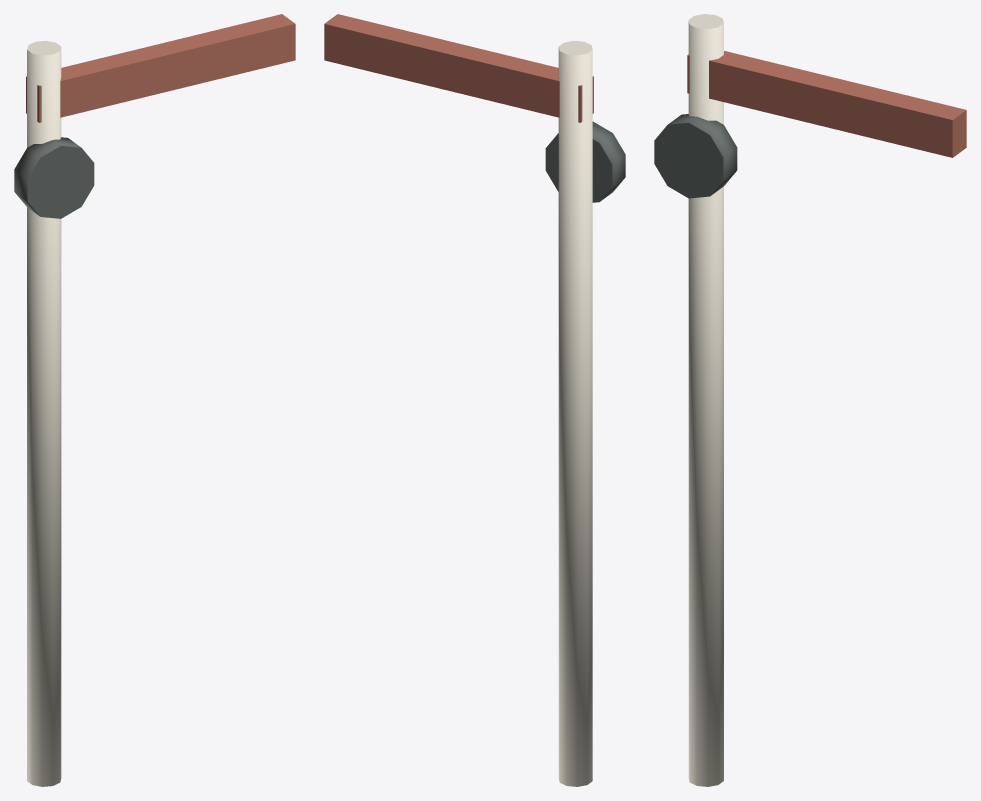
The model's file is rhine-signal_lod1.glb.
3 renders of one model, left to right at view 1: azimuth 30°, elevation 25°; view 2: azimuth 150°, elevation 25°; view 3: azimuth 330°, elevation 25°, orthographic. The views are drawn at different scales.
Visible parts, largest first — view 1: RF_SignalPost, RF_Semaphore, RF_SignalLamp; view 2: RF_SignalPost, RF_Semaphore, RF_SignalLamp; view 3: RF_SignalPost, RF_Semaphore, RF_SignalLamp.
Boxes of the visible parts, box(x1,y1,x2,y2) form: RF_SignalPost: box(27, 41, 61, 786); RF_Semaphore: box(26, 14, 295, 122); RF_SignalLamp: box(14, 137, 94, 218); RF_SignalPost: box(558, 41, 592, 786); RF_Semaphore: box(324, 14, 593, 122); RF_SignalLamp: box(545, 121, 625, 202); RF_SignalPost: box(688, 14, 723, 786); RF_Semaphore: box(687, 51, 966, 157); RF_SignalLamp: box(654, 114, 737, 198).
Size of the model in its own units: 2.39 by 6 by 0.38.
